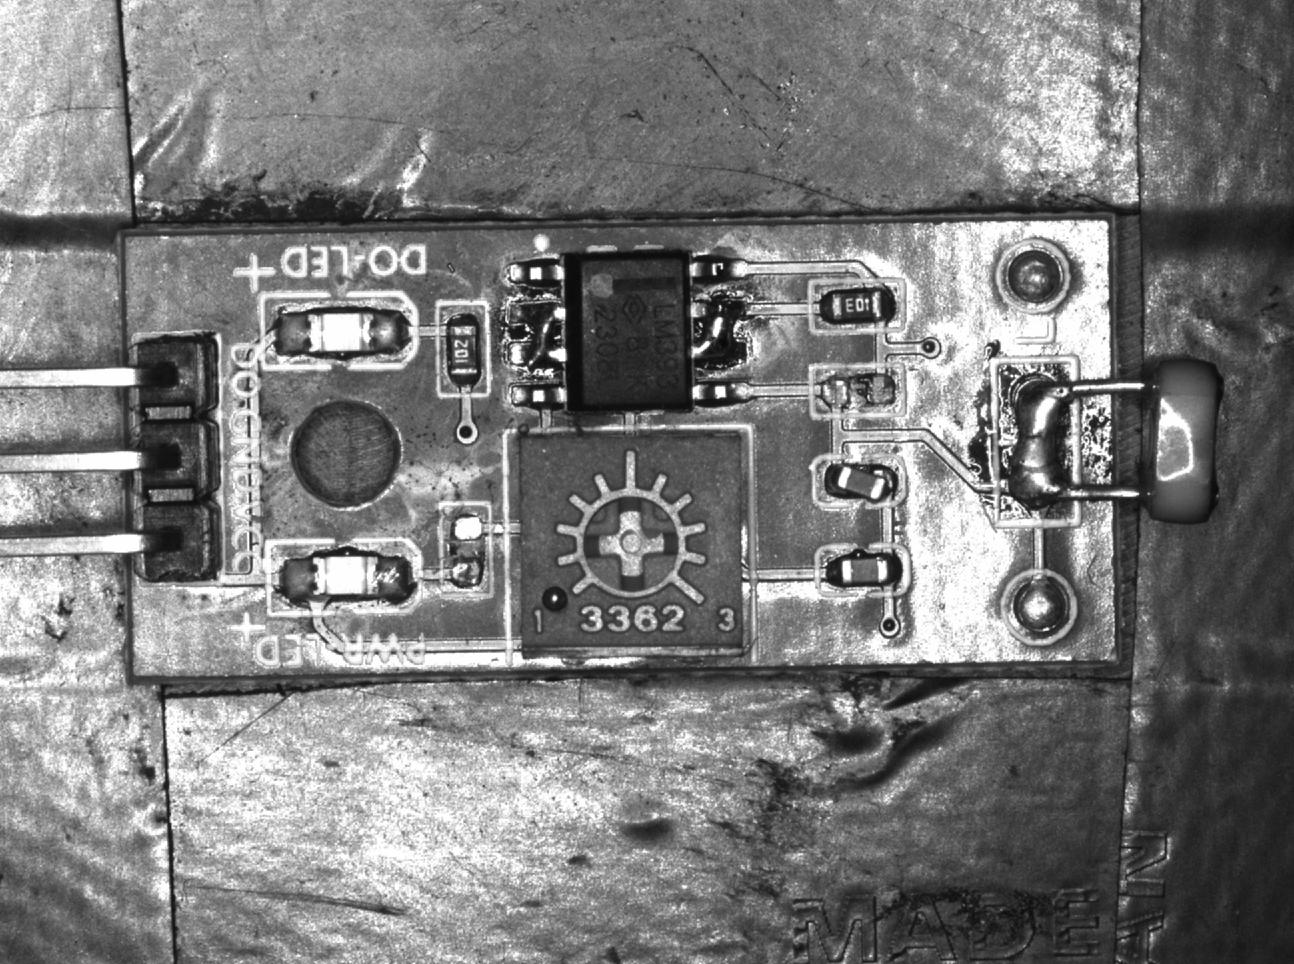bridge: (995, 358, 1079, 525), (503, 291, 569, 380), (689, 294, 749, 375)
lifted: (812, 457, 905, 510)
miss: (438, 503, 492, 598), (813, 364, 904, 417)
ok: (436, 300, 491, 399), (810, 277, 906, 333), (817, 543, 911, 596)
